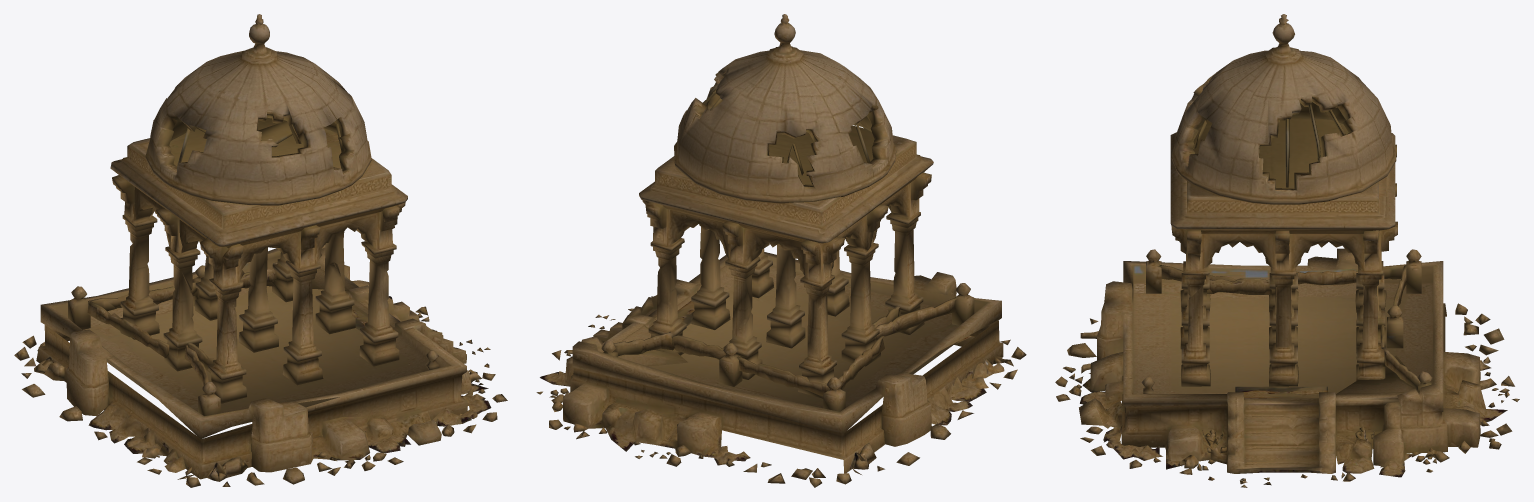
The model's file is large+ruins (1).glb.
The picture shows the model from 3 angles, left to right: view 1: azimuth 30°, elevation 25°; view 2: azimuth 150°, elevation 25°; view 3: azimuth 270°, elevation 25°; orthographic projection.
Visible parts, largest first — view 1: tripo_node_6442fb50-22d8-447e-9be9-fa8cfaa5f225; view 2: tripo_node_6442fb50-22d8-447e-9be9-fa8cfaa5f225; view 3: tripo_node_6442fb50-22d8-447e-9be9-fa8cfaa5f225.
Boxes of the visible parts, box(x1,y1,x2,y2) form: tripo_node_6442fb50-22d8-447e-9be9-fa8cfaa5f225: box(14, 14, 507, 487); tripo_node_6442fb50-22d8-447e-9be9-fa8cfaa5f225: box(536, 14, 1026, 487); tripo_node_6442fb50-22d8-447e-9be9-fa8cfaa5f225: box(1055, 14, 1519, 487).
Size of the model in its own units: 0.9707 by 0.8848 by 0.998.
Materials: 1 (1 with a texture image).
